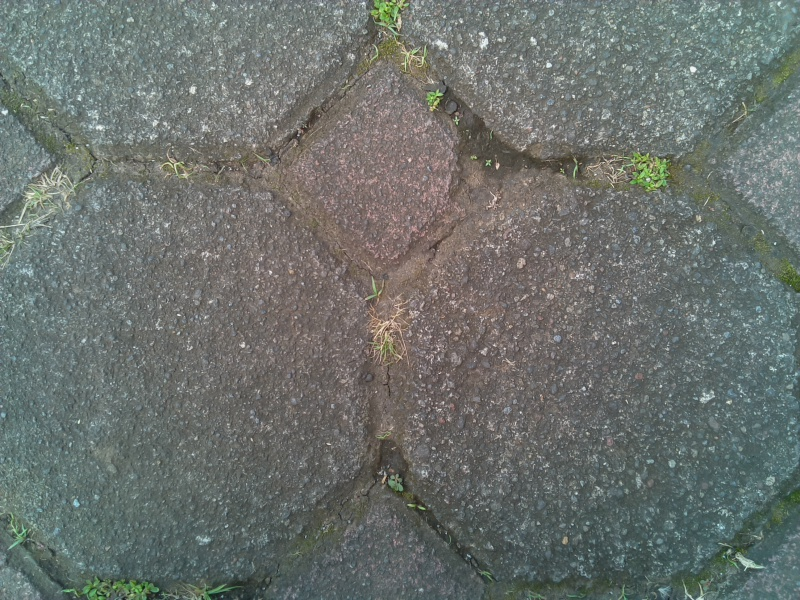Weed: (362, 302, 417, 371), (19, 168, 76, 220), (60, 573, 159, 600), (626, 147, 675, 196), (159, 570, 239, 599), (367, 1, 412, 41), (722, 538, 768, 576), (158, 148, 200, 187), (3, 515, 36, 559), (376, 461, 408, 497), (356, 275, 391, 306), (400, 44, 431, 72), (420, 84, 448, 113), (249, 146, 277, 172), (566, 153, 585, 181), (405, 497, 429, 518)
